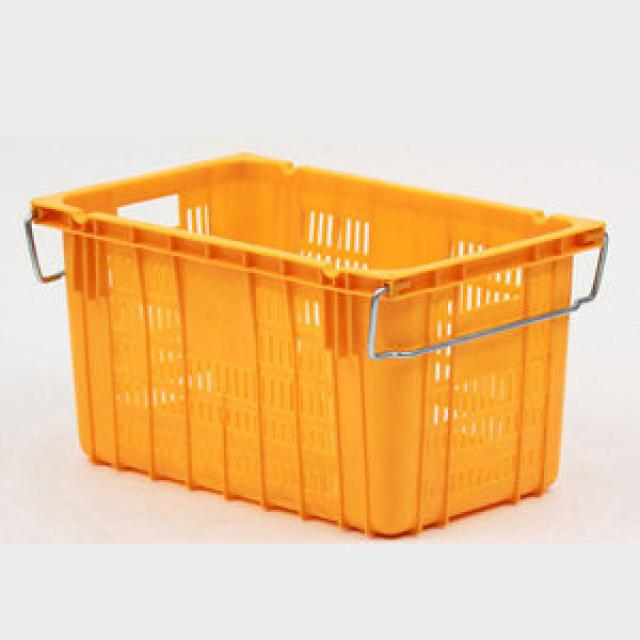basket: (0, 115, 611, 569)
